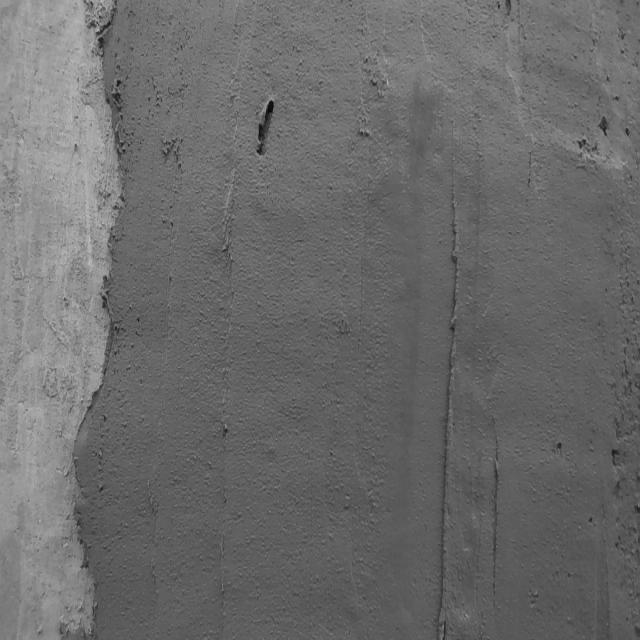trowels marks: (434, 169, 463, 640), (487, 429, 502, 602), (218, 419, 230, 447)
